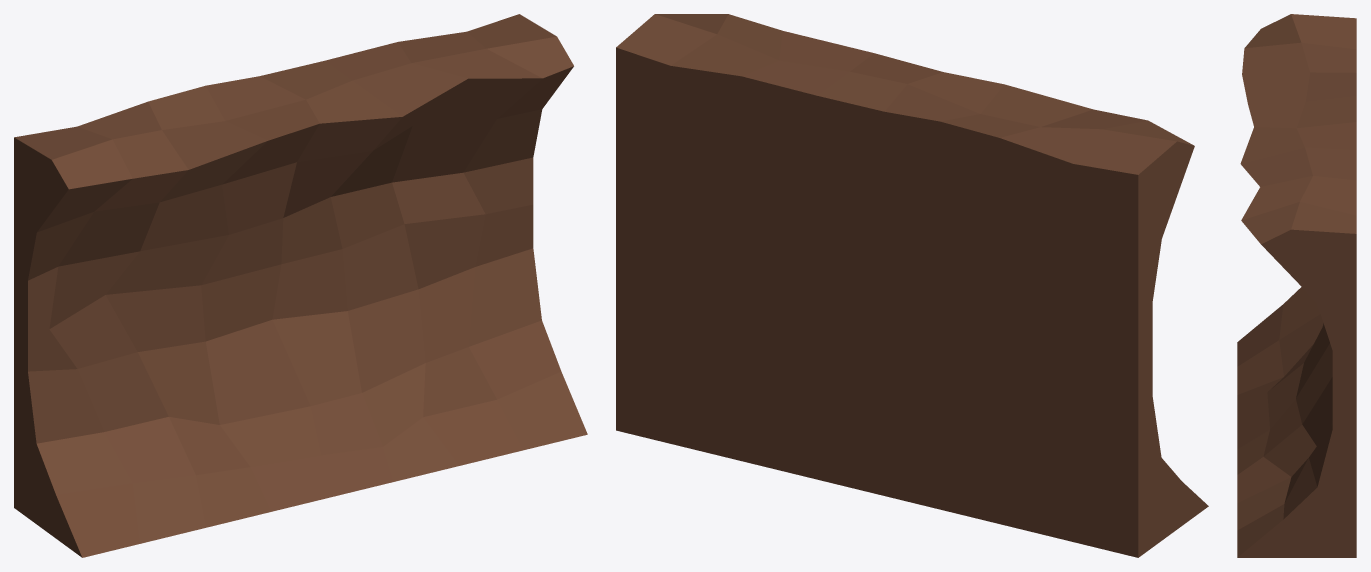
Rendered from CaveWall.fbx.
The picture shows the model from 3 angles, left to right: view 1: azimuth 30°, elevation 25°; view 2: azimuth 150°, elevation 25°; view 3: azimuth 270°, elevation 25°; orthographic projection. The views are drawn at different scales.
Parts seen in each view (by area): view 1: CaveWall; view 2: CaveWall; view 3: CaveWall.
Boxes of the visible parts, bbox=[...] form: CaveWall: bbox=[14, 14, 587, 557]; CaveWall: bbox=[616, 14, 1208, 557]; CaveWall: bbox=[1237, 14, 1356, 557].
Size of the model in its own units: 500 by 355 by 117.
Materials: 1 (1 with a texture image).
